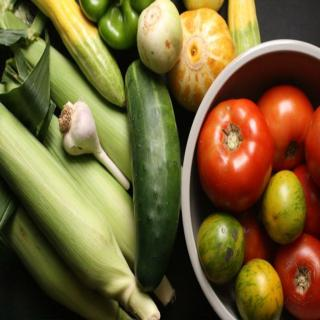tomato: (197, 96, 276, 211), (257, 86, 316, 164), (271, 229, 319, 319), (294, 164, 320, 233), (302, 104, 320, 190), (242, 217, 272, 264)
